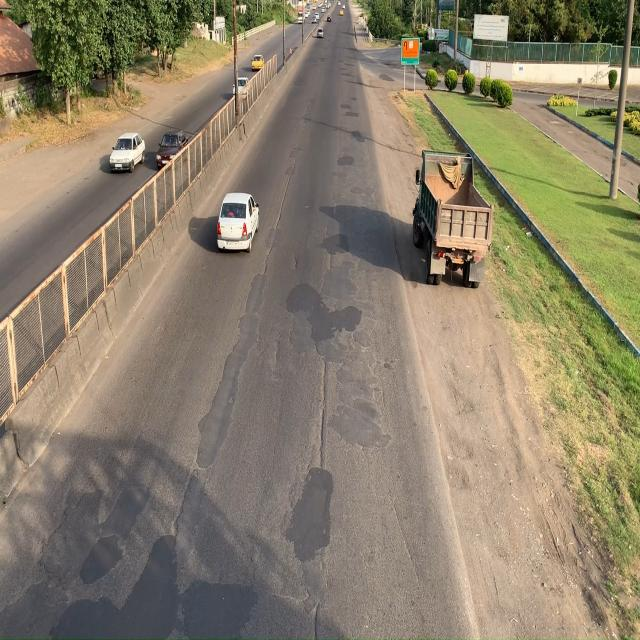Truck: (411, 148, 494, 288)
cars: (216, 193, 260, 250), (109, 131, 145, 174)
